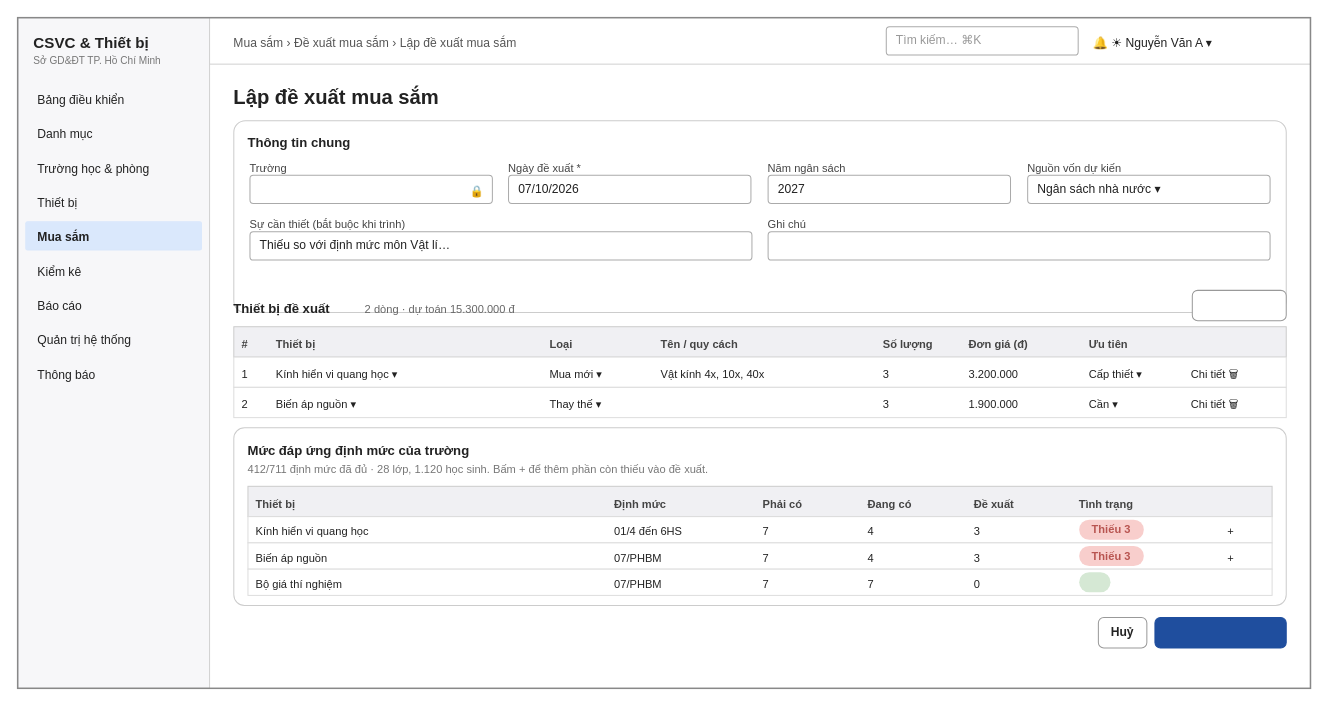
The diagram is 1329 pixels wide and 707 high, and some of its shapes have lost their labels. Each missing label, with the box of its shape:
Lưu phiếu nháp: (1154, 617, 1286, 648)
Thêm dòng: (1191, 289, 1286, 321)
Trường THPT Bình An: (249, 174, 492, 204)
Đủ: (1079, 572, 1110, 592)
